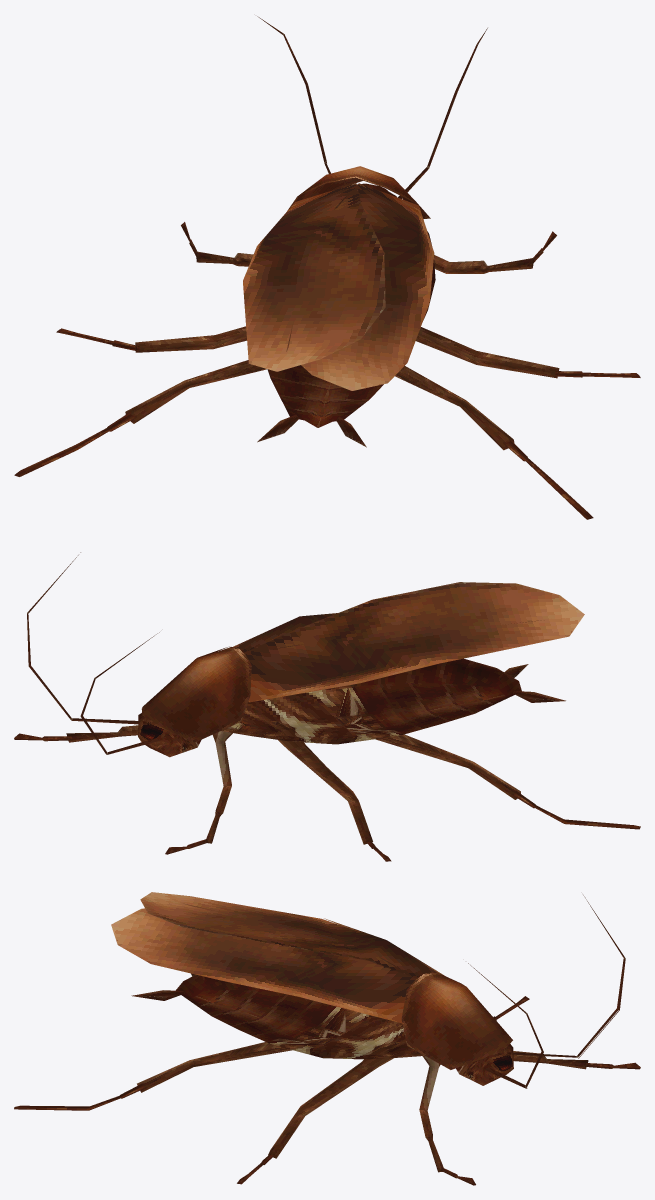
Rendered from ps2_save-icons_thetairyoujigoku.glb.
3 views of the same model, one above another, from view 1: azimuth 30°, elevation 25°; view 2: azimuth 150°, elevation 25°; view 3: azimuth 270°, elevation 25° (orthographic). The views are drawn at different scales.
Visible parts, largest first — view 1: m_icon_g.ico; view 2: m_icon_g.ico; view 3: m_icon_g.ico.
Part boxes in pixels (bbox=[...]): m_icon_g.ico: bbox=[14, 16, 640, 519]; m_icon_g.ico: bbox=[14, 552, 640, 861]; m_icon_g.ico: bbox=[14, 892, 640, 1185].
Bounding box in the file's own units: 4.67 × 1.82 × 4.75.
1 material, 1 textured.
